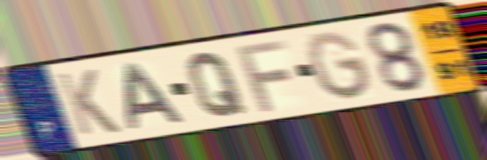8: (363, 19, 429, 94)
A: (122, 60, 189, 132)
F: (232, 37, 292, 114)
G: (305, 29, 376, 102)
K: (52, 67, 124, 138)
Q: (185, 50, 249, 119)
